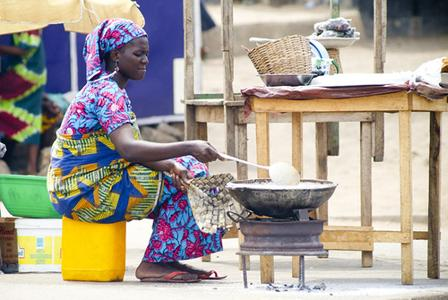person: (44, 19, 236, 282)
